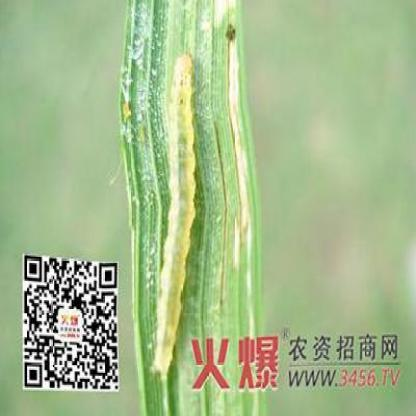leaf-folder: (140, 44, 220, 326)
